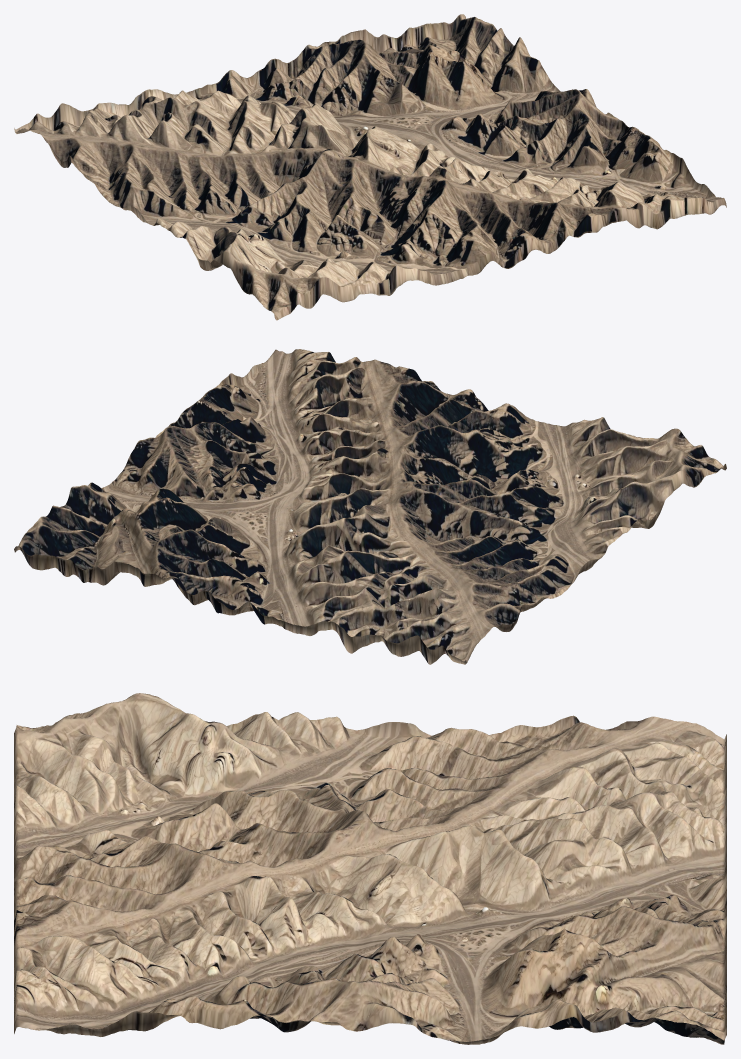
File: terrain_moge_displaced.glb
3 renders of one model, top to bottom at view 1: azimuth 30°, elevation 25°; view 2: azimuth 150°, elevation 25°; view 3: azimuth 270°, elevation 25°, orthographic. The views are drawn at different scales.
Visible parts, largest first — view 1: Grid; view 2: Grid; view 3: Grid.
Part boxes in pixels (x1,y1,x2,y2): Grid: (14,14,726,320); Grid: (14,349,726,664); Grid: (14,693,726,1044).
Bounding box in the file's own units: 10 × 1.15 × 10.
Materials: 1 (1 with a texture image).
